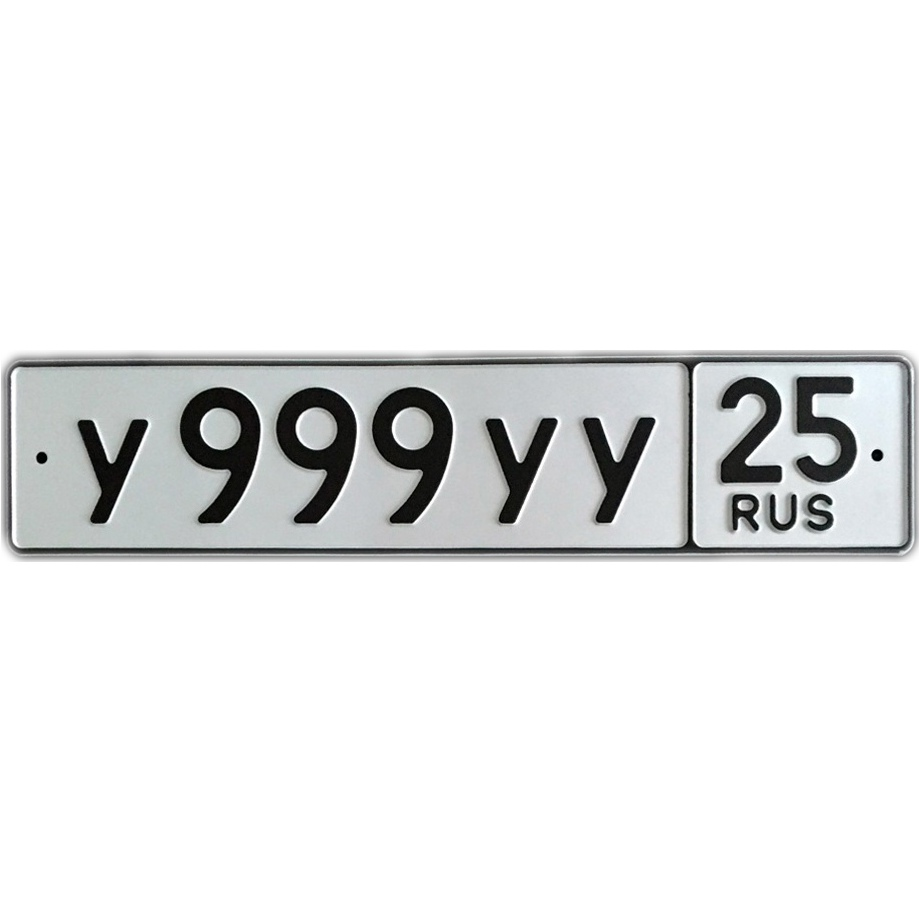number_plate: (32, 361, 904, 546)
